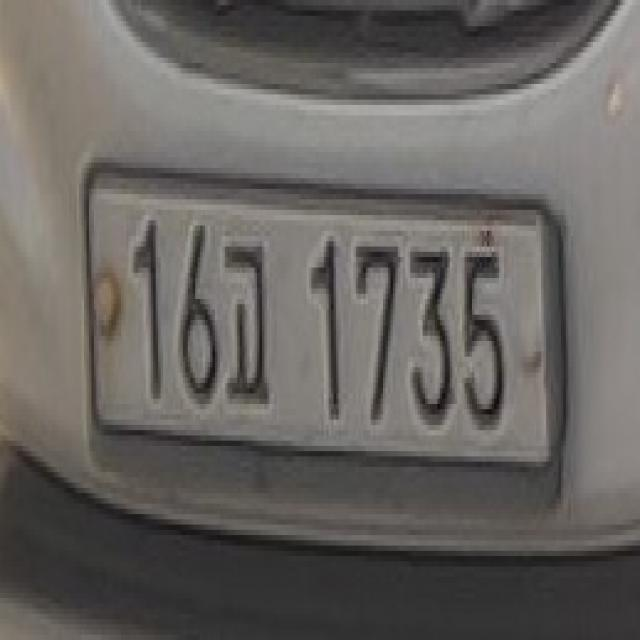1: (126, 199, 171, 425), (301, 225, 346, 440)
3: (402, 225, 460, 446)
5: (457, 226, 512, 451)
6: (173, 199, 220, 425)
7: (346, 230, 403, 440)
go: (218, 215, 274, 420)
license_plate: (82, 157, 573, 462)
